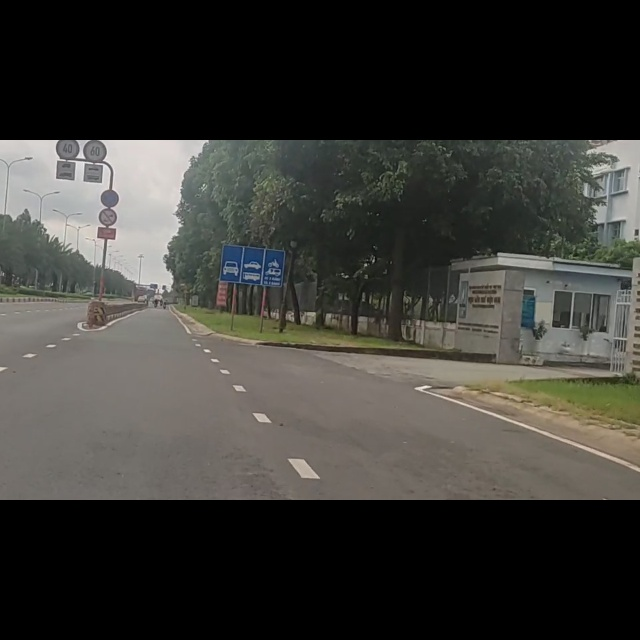bien_cam: (217, 183, 286, 265), (83, 2, 108, 39), (99, 87, 119, 120), (98, 120, 117, 154)
